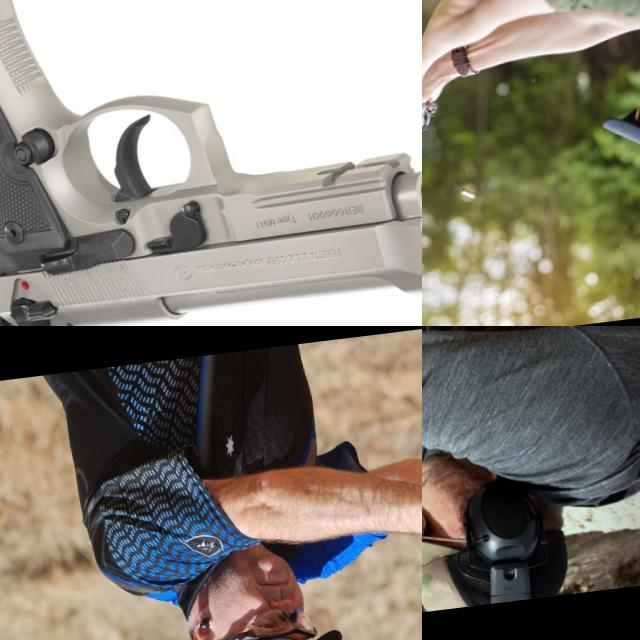handgun: (0, 0, 422, 326), (422, 498, 491, 582), (422, 65, 467, 141)
